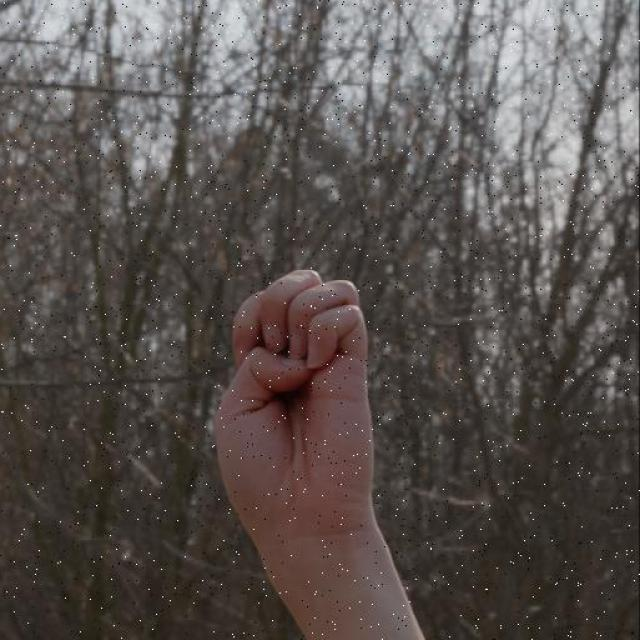E: (213, 267, 381, 555)
